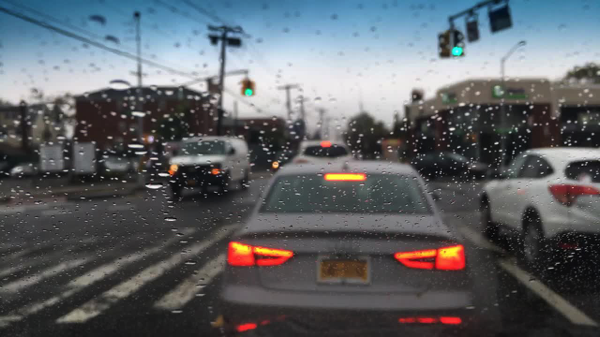car: (222, 160, 475, 325), (478, 147, 599, 272), (167, 135, 250, 194), (410, 151, 488, 181), (294, 139, 353, 163), (101, 155, 138, 174), (9, 161, 39, 180)
traffic light: (437, 30, 451, 59), (453, 30, 464, 57), (242, 80, 255, 96)
traffic sign: (487, 5, 513, 34), (467, 21, 479, 43)
